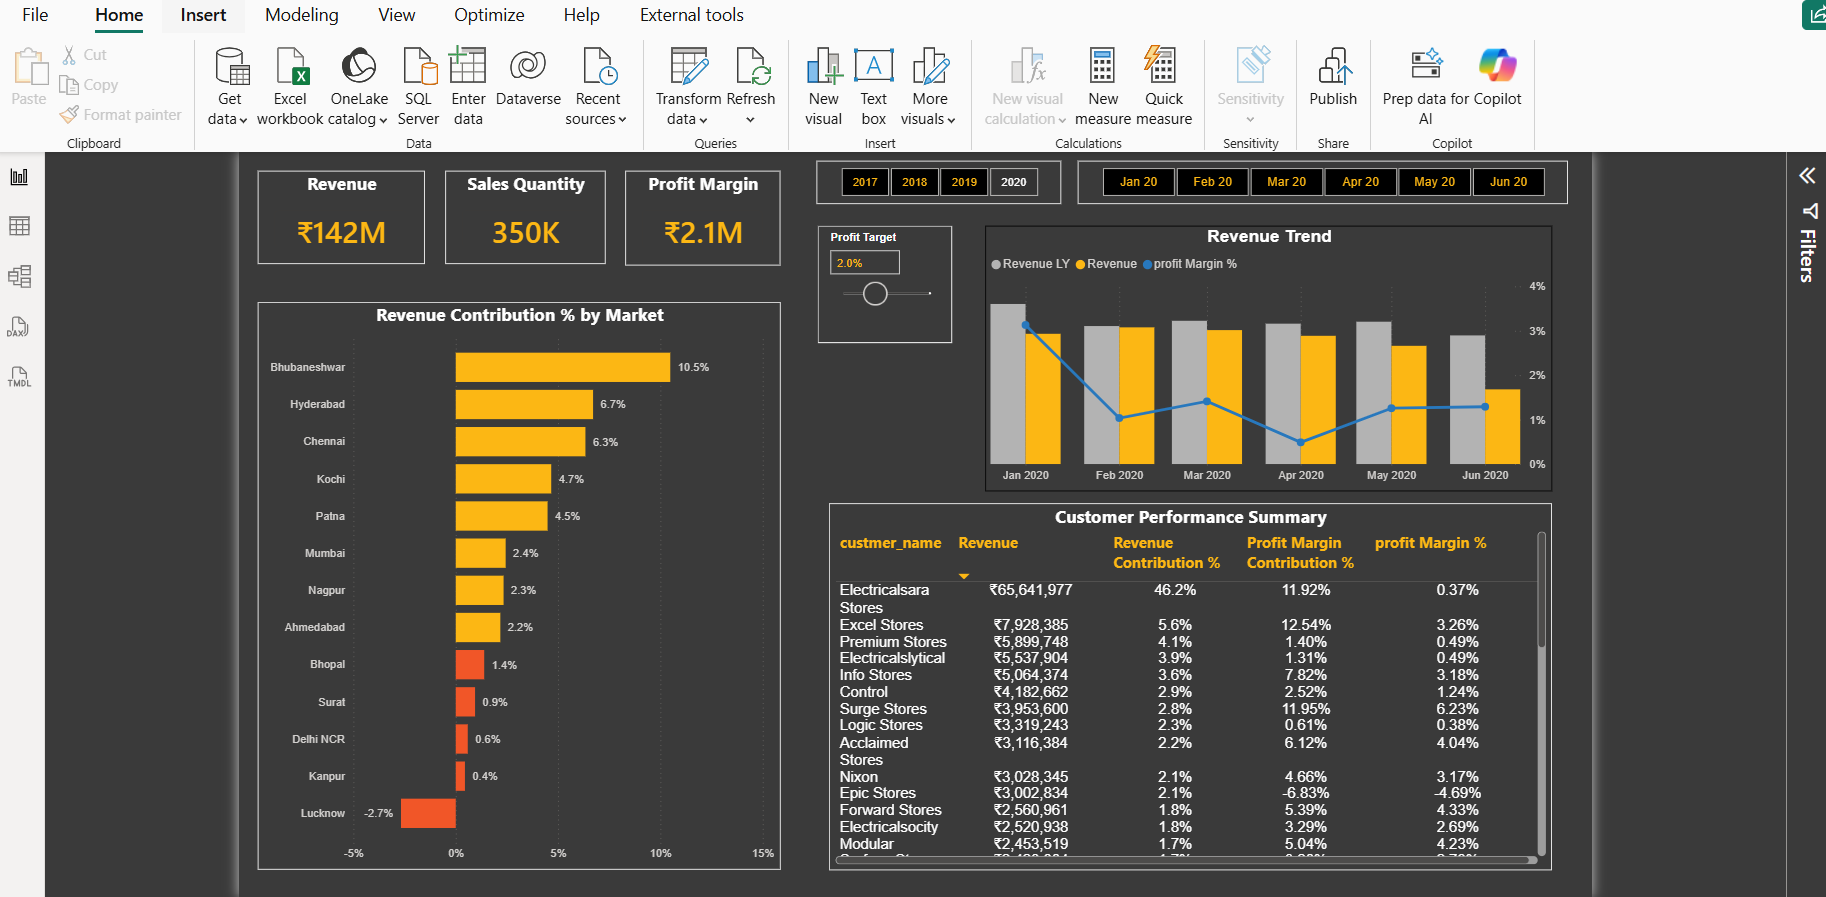

Layout of this report page (visuals, bound fields, positions):
{"tool":"powerbi","page":{"name":"Profit Analysis","canvas":[1450,800],"ordinal":1},"visuals":[{"type":"cardVisual","title":"Revenue","fields":{"Data":["MEASURES (2).Revenue"]},"box":[9.9,7,164.9,102.9],"z":0},{"type":"cardVisual","title":"Sales Quantity","fields":{"Data":["MEASURES (2).Sales Qty"]},"box":[187.5,9.9,163.5,100.1],"z":1000},{"type":"barChart","title":"Profit % by Market","fields":{"Category":["sales markets.markets_name"],"Y":["MEASURES (2).profit Margin %"]},"box":[531.3,184.6,243.8,597.6],"z":2000},{"type":"barChart","title":"Revenue Contribution % by Market","fields":{"Category":["sales markets.markets_name"],"Y":["MEASURES (2).Revenue Comtribution %"]},"box":[19.7,184.6,232.6,597.6],"z":3000},{"type":"slicer","fields":{"Values":["sales date.year"]},"box":[619.6,9.5,262.2,46.2],"z":4000},{"type":"slicer","fields":{"Values":["sales date.cy_date"]},"box":[899.5,9.5,525.8,46.2],"z":5000},{"type":"tableEx","title":"Customer Performance Summary","fields":{"Values":["sales customers.custmer_name","MEASURES (2).Revenue","MEASURES (2).Revenue Contribution %","MEASURES (2).Profit Margin Contribution %","MEASURES (2).profit Margin %"]},"box":[800.5,397.5,607.5,384.8],"z":6000},{"type":"lineChart","title":"Revenue Trend","fields":{"Category":["sales date.cy_date"],"Y":["MEASURES (2).Revenue"]},"box":[800.1,79.2,608.1,284.7],"z":7000},{"type":"cardVisual","title":"Profit Margin","fields":{"Data":["MEASURES (2).Total Profit Margin"]},"box":[369.3,9.9,181.8,100.1],"z":8000},{"type":"barChart","title":"Profit Contribution % by Market","fields":{"Category":["sales markets.markets_name"],"Y":["MEASURES (2).Profit Margin Contribution %"]},"box":[269.2,184.6,239.6,599],"z":9000}]}

Visuals, with their boxes on the page's 1450x800 design canvas (x1, y1, x2, y2). These are canvas units, not pixel positions in the 1826x897 screenshot, which may show the page scaled, cropped or inside an application window:
"Revenue" cardVisual: l=10, t=7, r=175, b=110
"Sales Quantity" cardVisual: l=188, t=10, r=351, b=110
"Profit % by Market" barChart: l=531, t=185, r=775, b=782
"Revenue Contribution % by Market" barChart: l=20, t=185, r=252, b=782
slicer - sales date.year: l=620, t=10, r=882, b=56
slicer - sales date.cy_date: l=900, t=10, r=1425, b=56
"Customer Performance Summary" tableEx: l=800, t=398, r=1408, b=782
"Revenue Trend" lineChart: l=800, t=79, r=1408, b=364
"Profit Margin" cardVisual: l=369, t=10, r=551, b=110
"Profit Contribution % by Market" barChart: l=269, t=185, r=509, b=784
